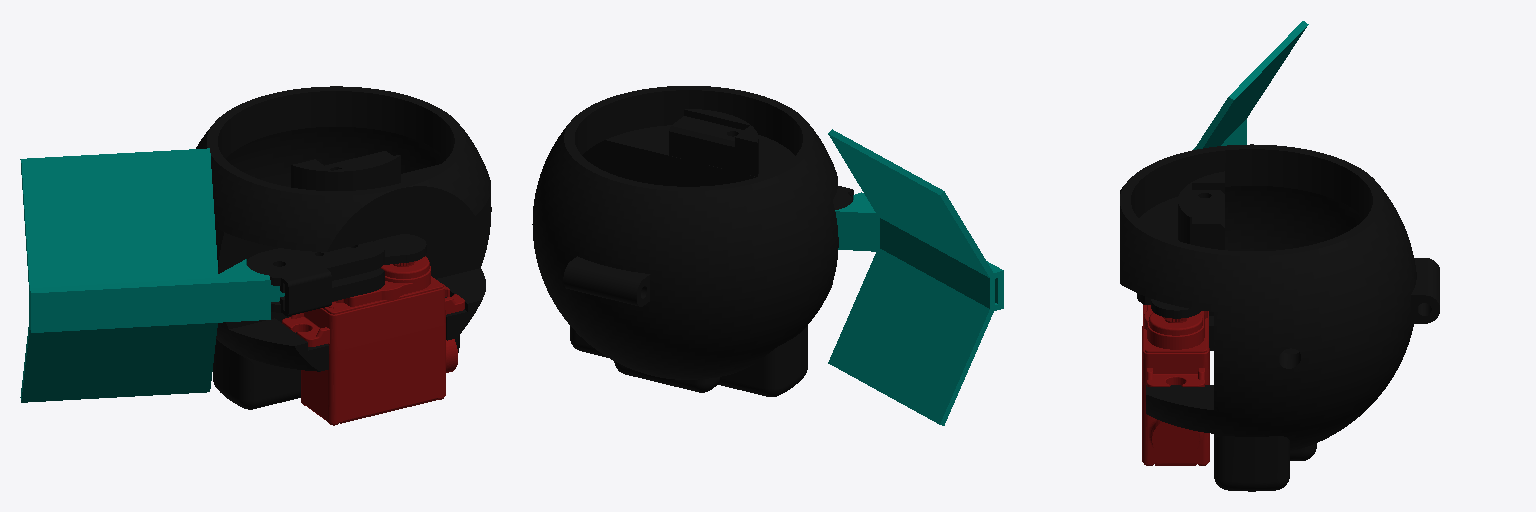
The robot description file, URDF, robot "module":
<?xml version="1.0" encoding="utf-8"?>

<robot name="module">

  <!-- Main Body -->
  <link name="main_body_link">
    <inertial>
      <origin xyz="0 0.003263 -0.024012" rpy="0 0 0"/>
      <mass value = "0.0508654"/>
      <inertia
        ixx="3.2369E-05"
        ixy="-5.1865E-08"
        ixz="6.2298E-08"
        iyy="3.8892E-05"
        iyz="1.5562E-06"
        izz="3.8330E-05"/>
    </inertial>

    <visual>
      <origin xyz="0 0 0" rpy="0 0 0"/>
      <geometry>
        <mesh filename="meshes/main_body.STL"/>
      </geometry>
      <material name="grey">
        <color rgba=".1 .1 .1 1"/>
      </material>
    </visual>
    
    <collision>
      <origin xyz="0 0 0" rpy="0 0 0"/>
      <geometry>
        <mesh filename="meshes/main_body.STL"/>
      </geometry>
    </collision>
  </link>

  <!-- Cap (fixed) -->
  <link name="cap_link">
    <inertial>
      <origin xyz="0 0 0.002584" rpy="0 0 0"/>
      <mass value = "0.0207453"/>
      <inertia
        ixx="5.2686E-06"
        ixy="2.2073E-12"
        ixz="-4.2054E-12"
        iyy="5.8008E-06"
        iyz="8.3798E-12"
        izz="1.0095E-05" />
    </inertial>
    <visual>
      <origin xyz="0 0 0" rpy="0 0 0"/>
      <geometry>
        <mesh filename="meshes/cap.STL"/>
      </geometry>
      <material name="grey">
        <color rgba=".1 .1 .1 1"/>
      </material>
    </visual>
    <collision>
      <origin xyz="0 0 0" rpy="0 0 0"/>
      <geometry>
        <mesh filename="meshes/cap.STL"/>
      </geometry>
    </collision>
  </link>
  
  <!-- Motor (fixed) -->
  <link name="motor_link">
    <inertial>
      <origin xyz="0.000583 0.013451 0" rpy="0 0 0"/>
      <mass value = "0.0180991"/>
      <inertia
        ixx="1.7385E-06"
        ixy="-6.0293E-09"
        ixz="-2.8041E-10"
        iyy="1.8742E-06"
        iyz="-3.9561E-11"
        izz="2.9658E-06" />
    </inertial>
    <visual>
      <origin xyz="0 0 0" rpy="0 0 0"/>
      <geometry>
        <mesh filename="meshes/motor.STL"/>
      </geometry>
      <material name="red">
        <color rgba=".5 .1 .1 1"/>
      </material>
    </visual>
    <collision>
      <origin xyz="0 0 0" rpy="0 0 0"/>
      <geometry>
        <mesh filename="meshes/motor.STL"/>
      </geometry>
    </collision>
  </link>

  <joint name="main_body_to_cap" type="fixed">
    <origin xyz="0 0 0.001" rpy="0 0 0"/>
    <parent link="main_body_link"/>
    <child link="cap_link"/>
  </joint>
  <joint name="main_body_to_motor" type="fixed">
    <origin xyz="0 -0.017 -0.055" rpy="1.57079632679 0 0"/>
    <parent link="main_body_link"/>
    <child link="motor_link"/>
  </joint>

  <!-- Motor paddle (revolute hinge) -->
  <link name="motor_paddle_link">
    <inertial>
      <origin xyz="-0.00442 -0.000212 0" rpy="0 0 0"/>
      <mass value = "0.000425108"/>
      <inertia
        ixx="2.9604E-09"
        ixy="1.1351E-10"
        ixz="-4.1107E-26"
        iyy="1.4476E-08"
        iyz="5.9011E-26"
        izz="1.7153E-08" />
    </inertial>
    <visual>
      <origin xyz="0 0 0" rpy="0 0 0"/>
      <geometry>
        <mesh filename="meshes/motor_paddle.STL"/>
      </geometry>
      <material name="grey">
        <color rgba=".1 .1 .1 1"/>
      </material>
    </visual>
    <collision>
      <origin xyz="0 0 0" rpy="0 0 0"/>
      <geometry>
        <mesh filename="meshes/motor_paddle.STL"/>
      </geometry>
    </collision>
  </link>

  <joint name="motor_hinge" type="revolute">
    <origin xyz="0.008 0.035 0" rpy="1.57079632679 0 0"/>
    <axis xyz=" 0 0 1"/>
    <limit lower="-0.7854" upper="0.7854" effort="1.0" velocity="10.0"/>
    <parent link="motor_link"/>
    <child link="motor_paddle_link"/>
    <dynamics damping="1e-4"/>
  </joint>

  <!-- flA, flB (fixed) -->
  <link name="flA_link">
    <inertial>
      <origin xyz="0.001618 0.001988 -0.000278" rpy="0 0 0"/>
      <mass value = "0.0175588"/>
      <inertia
        ixx="4.1751E-08"
        ixy="1.0291E-08"
        ixz="2.1462E-09"
        iyy="1.2538E-07"
        iyz="1.0233E-09"
        izz="1.6320E-07" />
    </inertial>
    <visual>
      <origin xyz="0 0 0" rpy="0 0 0"/>
      <geometry>
        <mesh filename="meshes/flA.STL"/>
      </geometry>
      <material name="grey">
        <color rgba=".1 .1 .1 1"/>
      </material>
    </visual>
    <collision>
      <origin xyz="0 0 0" rpy="0 0 0"/>
      <geometry>
        <mesh filename="meshes/flA.STL"/>
      </geometry>
    </collision>
  </link>
  <link name="flB_link">
    <inertial>
      <origin xyz="0.001618 0.001988 0.000278" rpy="0 0 0"/>
      <mass value = "0.017588"/>
      <inertia
        ixx="4.1751E-08"
        ixy="1.0291E-08"
        ixz="-2.1462E-09"
        iyy="1.2538E-07"
        iyz="-1.0233E-09"
        izz="1.6320E-07" />
    </inertial>
    <visual>
      <origin xyz="0 0 0" rpy="0 0 0"/>
      <geometry>
        <mesh filename="meshes/flB.STL"/>
      </geometry>
      <material name="grey">
        <color rgba=".1 .1 .1 1"/>
      </material>
    </visual>
    <collision>
      <origin xyz="0 0 0" rpy="0 0 0"/>
      <geometry>
        <mesh filename="meshes/flB.STL"/>
      </geometry>
    </collision>
  </link>

  <joint name="motor_paddle_to_flA" type="fixed">
    <origin xyz="-0.025 0 0.003" rpy="0 0 0"/>
    <parent link="motor_paddle_link"/>
    <child link="flA_link"/>
  </joint>
  <joint name="motor_paddle_to_flB" type="fixed">
    <origin xyz="-0.025 0 -0.003" rpy="0 0 0"/>
    <parent link="motor_paddle_link"/>
    <child link="flB_link"/>
  </joint>

  <!-- Paddle (revolute hinge) -->
  <link name="paddle_link">
    <inertial>
      <origin xyz="0.001281 0.029867 0" rpy="0 0 0"/>
      <mass value = "0.00849369"/>
      <inertia
        ixx="4.2957E-06"
        ixy="3.0329E-08"
        ixz="1.9701E-22"
        iyy="1.9992E-06"
        iyz="-3.8433E-22"
        izz="2.7663E-06" />
    </inertial>
    <visual>
      <origin xyz="0 0 0" rpy="0 0 0"/>
      <geometry>
        <mesh filename="meshes/paddle.STL"/>
      </geometry>
      <material name="mint">
        <color rgba="0.02 0.5 0.46 1"/>
      </material>
    </visual>
    <collision>
      <origin xyz="0 0 0" rpy="0 0 0"/>
      <geometry>
        <!-- <box size="0.001 0.001 0.001"/> -->
        <mesh filename="meshes/paddle.STL"/>
      </geometry>
    </collision>
  </link>

  <joint name="paddle_hinge" type="revolute">
    <origin xyz="-0.0335 0.0015 0" rpy="0 0 1.96349539694"/>
    <axis xyz=" 0 0 1"/>
    <limit lower="-0.3927" upper="0.3927" effort="1.0" velocity="10.0"/>
    <parent link="motor_paddle_link"/>
    <child link="paddle_link"/>
    <dynamics damping="1e-4"/>
  </joint>

</robot>

--- Render facts (derived) ---
The picture shows the robot from 3 angles, left to right: view 1: azimuth 30°, elevation 25°; view 2: azimuth 150°, elevation 25°; view 3: azimuth 270°, elevation 25°; orthographic projection.
Robot: module — 7 links, 6 joints (2 revolute, 4 fixed); root link main_body_link; default pose: every joint at zero.
Links seen in each view (by area): view 1: main_body_link, paddle_link, motor_link, flB_link, flA_link, motor_paddle_link; view 2: main_body_link, paddle_link; view 3: main_body_link, motor_link, paddle_link, motor_paddle_link.
Boxes of the visible links, box(x1,y1,x2,y2) form: main_body_link: box(196, 86, 491, 409); paddle_link: box(20, 148, 284, 402); motor_link: box(282, 256, 464, 425); flB_link: box(247, 241, 384, 296); flA_link: box(271, 268, 384, 316); motor_paddle_link: box(374, 234, 426, 264); main_body_link: box(532, 86, 838, 396); paddle_link: box(828, 129, 1003, 425); main_body_link: box(1120, 144, 1439, 491); motor_link: box(1142, 305, 1209, 465); paddle_link: box(1193, 21, 1308, 149); motor_paddle_link: box(1151, 299, 1201, 318).
Size in the robot's own frame: 0.1202 by 0.0716 by 0.068 metres.
6 mesh visuals loaded from 7 distinct referenced files (6 binary STL); not drawn: 1 (reference not matched to a file when rendering).